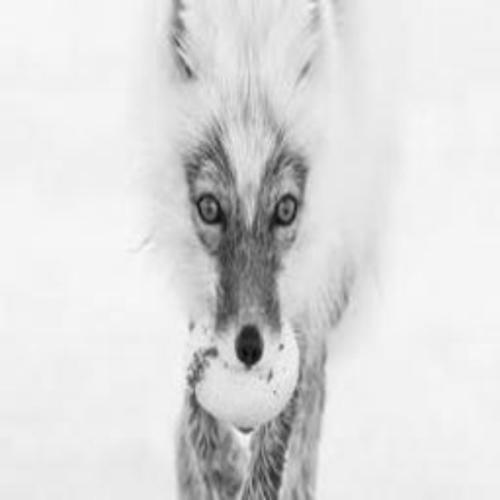arctic_fox-endangered: (135, 0, 395, 500)
